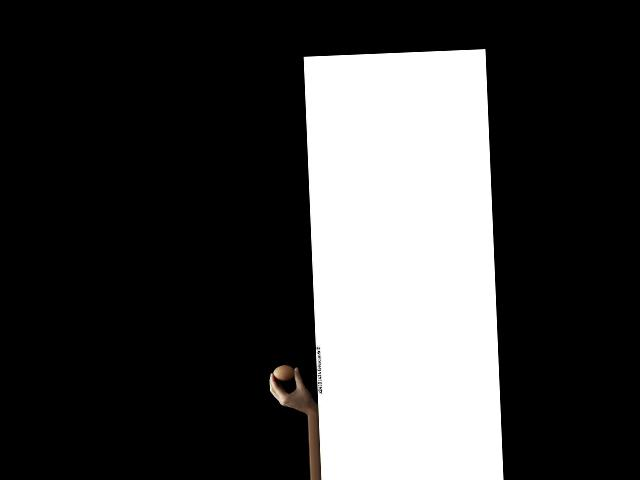egg: (272, 364, 294, 381)
